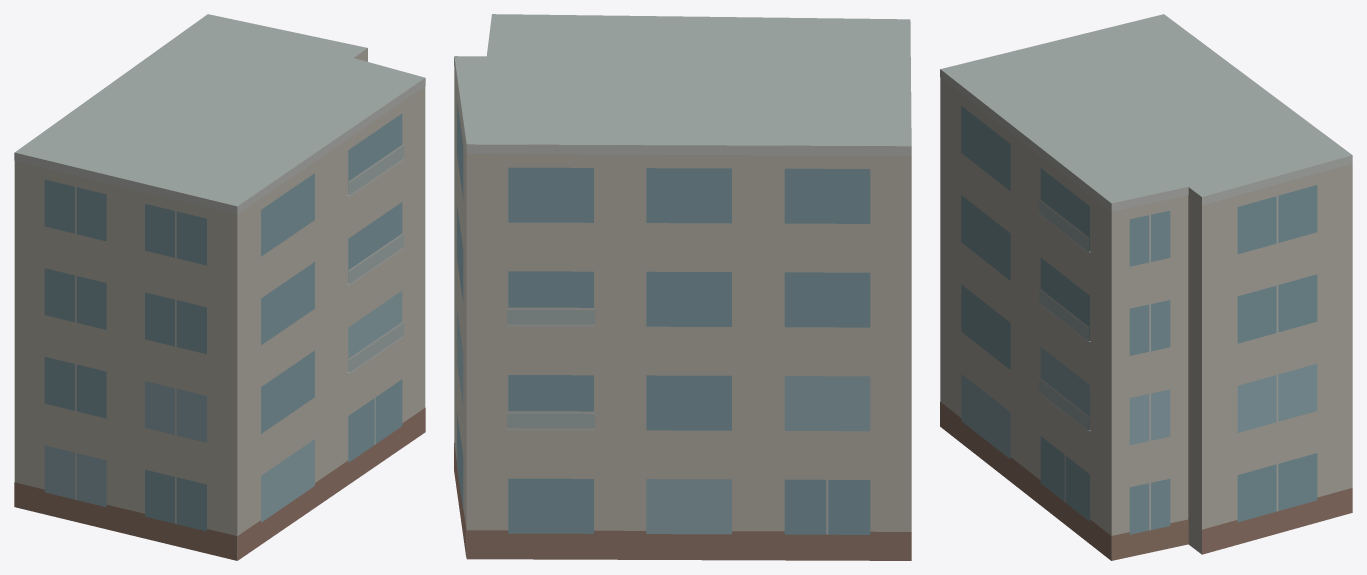
Rendered from survey-upis-32638335.glb.
3 views of the same model, side by side, from view 1: azimuth 30°, elevation 25°; view 2: azimuth 150°, elevation 25°; view 3: azimuth 270°, elevation 25° (orthographic). The views are drawn at different scales.
Visible parts, largest first — view 1: survey-upis-32638335.tmp; view 2: survey-upis-32638335.tmp; view 3: survey-upis-32638335.tmp.
Boxes of the visible parts, x1,y1,x2,y2 form: survey-upis-32638335.tmp: [14, 14, 425, 560]; survey-upis-32638335.tmp: [454, 14, 911, 560]; survey-upis-32638335.tmp: [940, 14, 1352, 560].
Size of the model in its own units: 11.94 by 10.5 by 10.99.
